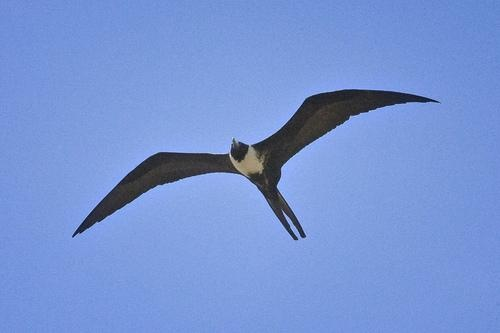bird: (71, 89, 440, 240)
